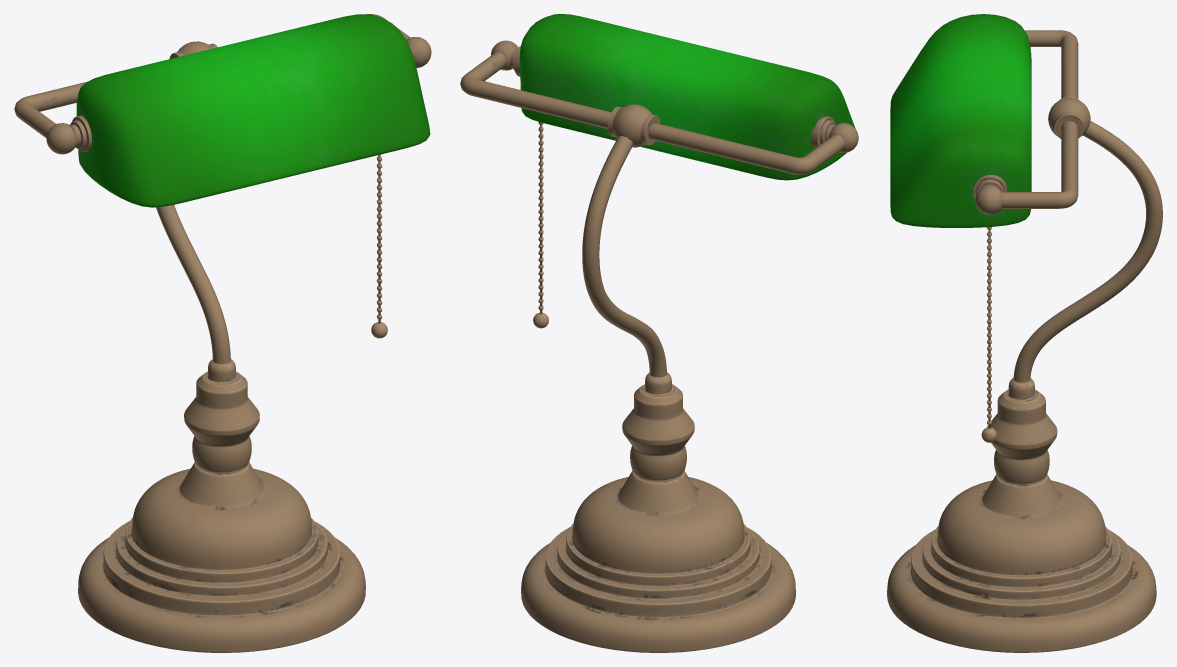
The model's file is desklamp.glb.
The picture shows the model from 3 angles, left to right: view 1: azimuth 30°, elevation 25°; view 2: azimuth 150°, elevation 25°; view 3: azimuth 270°, elevation 25°; orthographic projection. The views are drawn at different scales.
Visible parts, largest first — view 1: Desk Lamp; view 2: Desk Lamp; view 3: Desk Lamp.
Boxes of the visible parts, x1,y1,x2,y2 form: Desk Lamp: (14,14,431,652); Desk Lamp: (460,14,858,652); Desk Lamp: (887,14,1162,652).
Bounding box in the file's own units: 0.2439 × 0.34 × 0.1635.
1 material, 1 textured.
